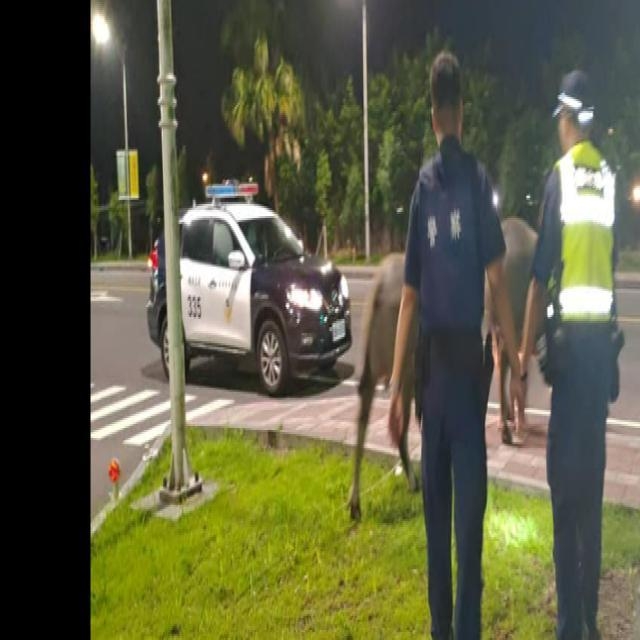police_car: (142, 148, 352, 392)
